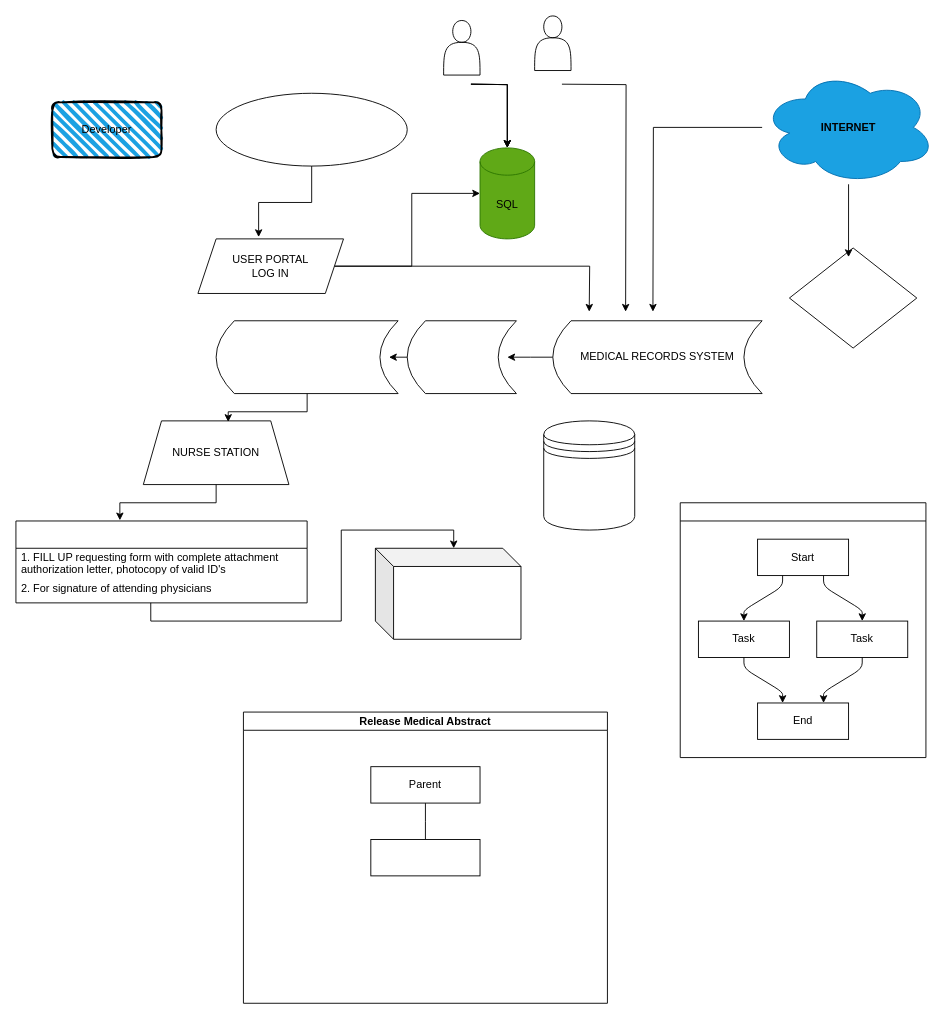
Some shapes in this 951 by 1019 pixel diagram are drawn without their labels. The shapes that lost their labels are listed below. From the top down, each one's box as (x1, y1, x2, y2) in pixels, then its label:
(215, 92, 407, 166): Program
(215, 320, 398, 394): IN-PATIENT
(406, 320, 516, 394): OPD
(15, 520, 307, 603): List for SCAN Files or QR code
(679, 502, 926, 758): Vertical Flow Layout
(370, 839, 480, 876): Child
